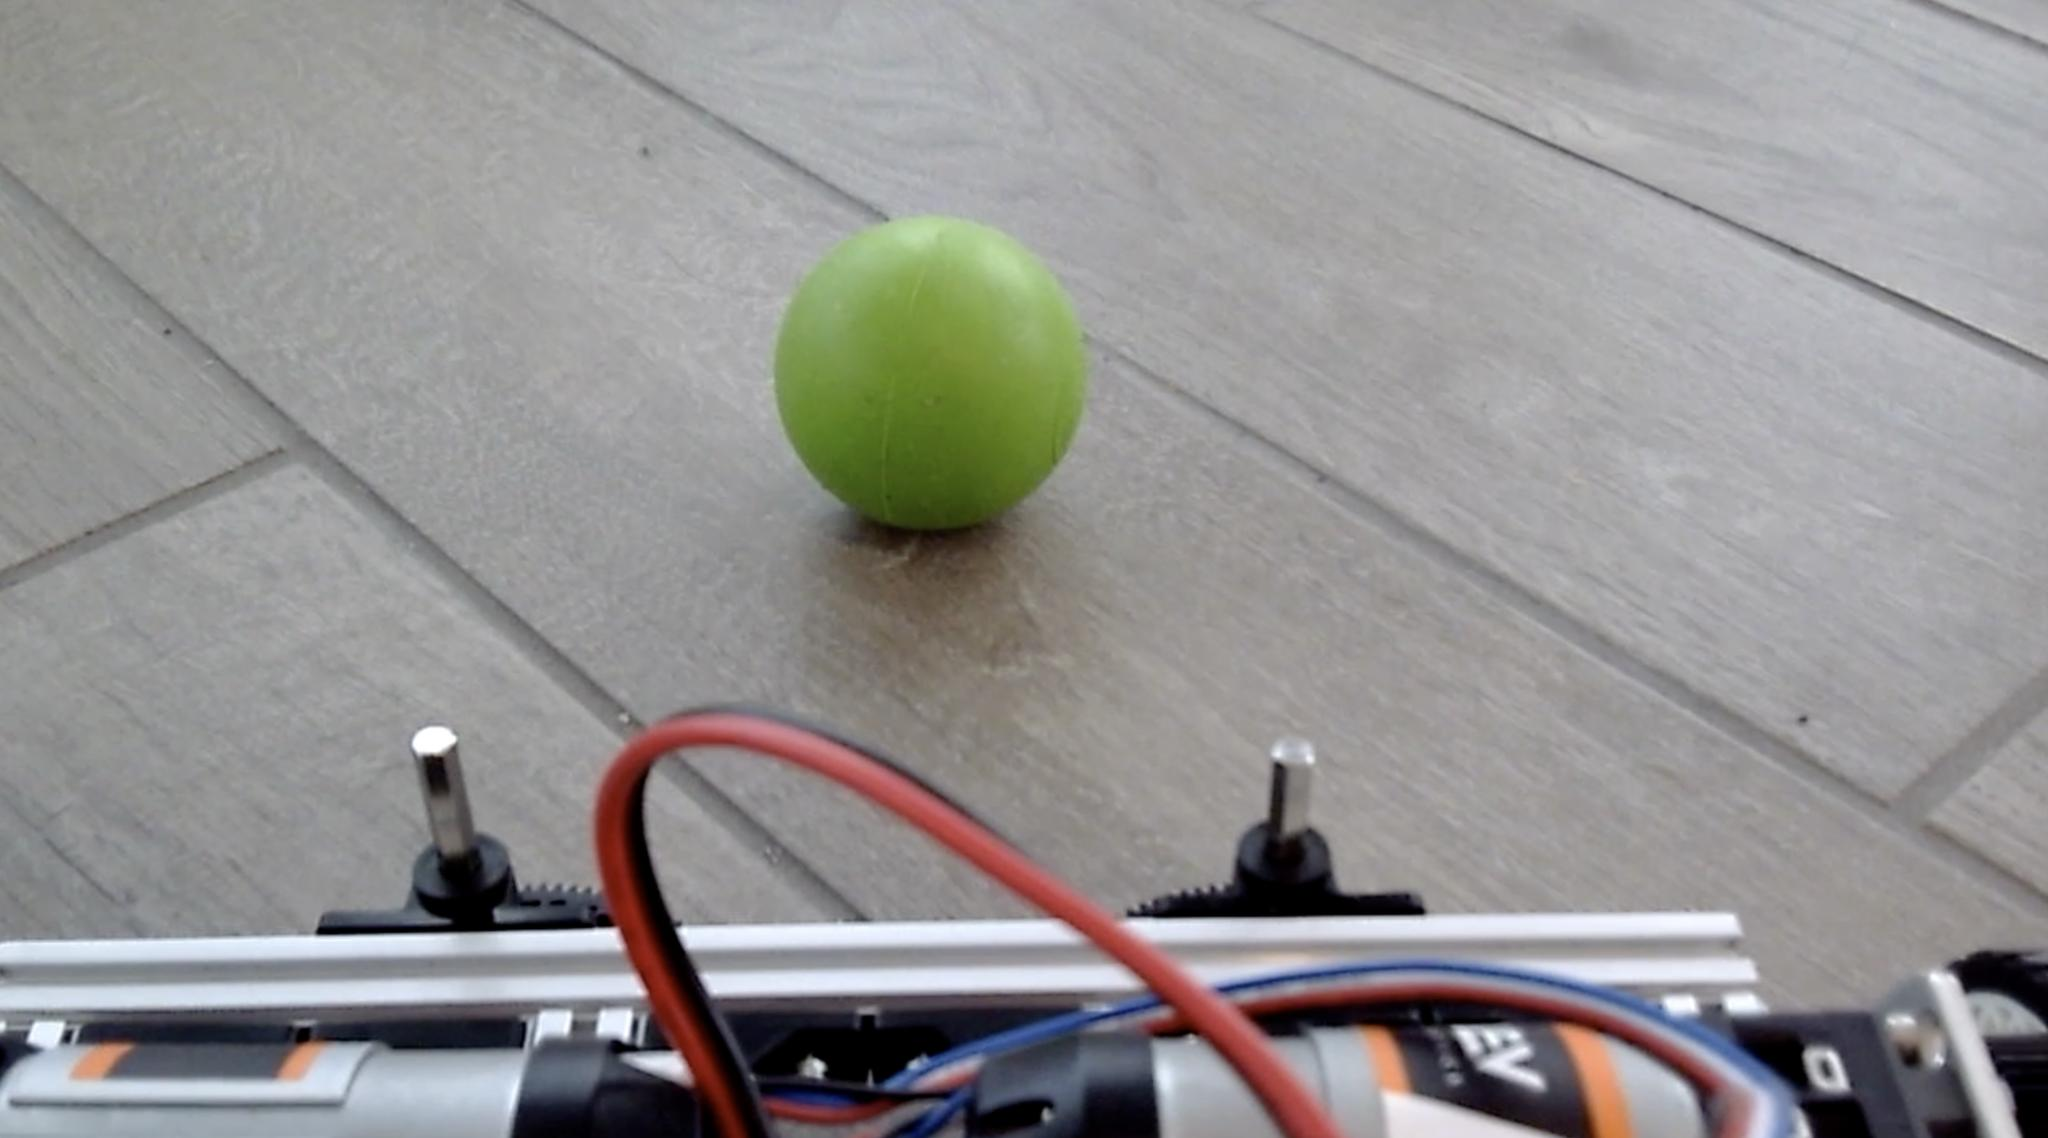greenball: (770, 210, 1090, 534)
